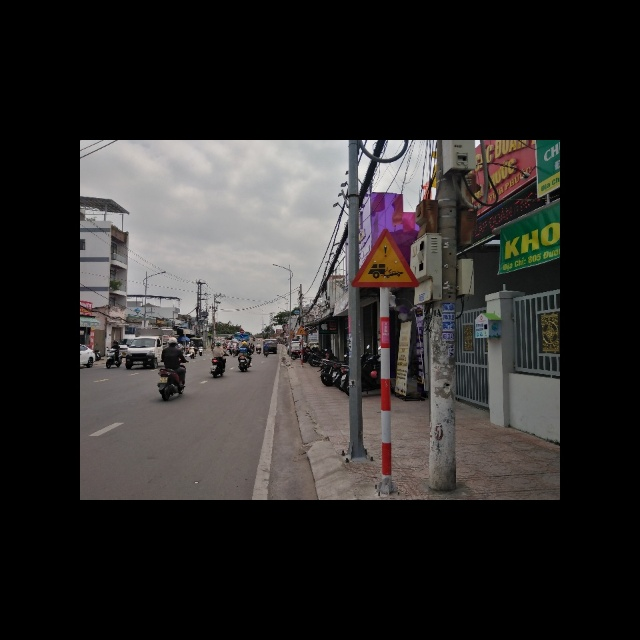Đoạn đường hay xảy ra tai nạn: (353, 227, 420, 288)
